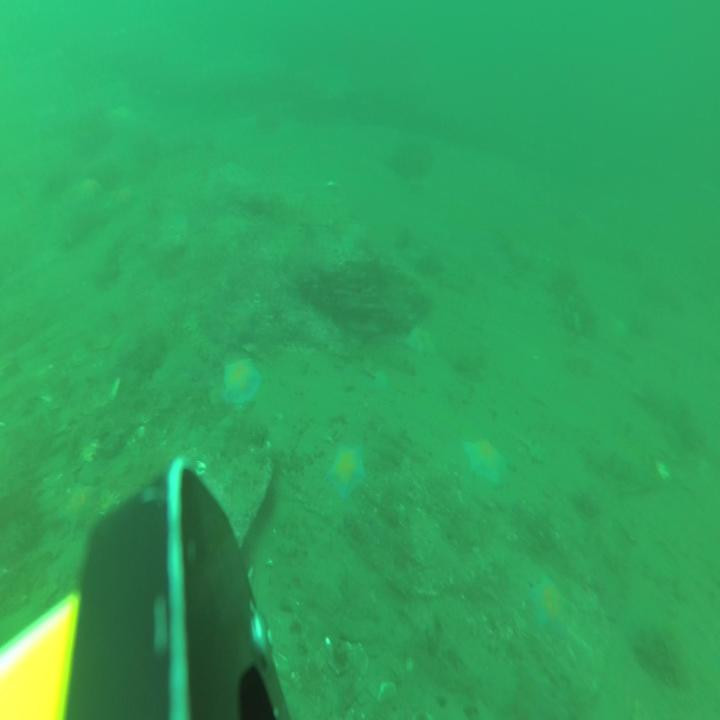holothurian: (101, 488, 120, 548)
starfish: (530, 571, 574, 636), (62, 477, 100, 539), (330, 444, 364, 500), (464, 439, 505, 484), (223, 358, 260, 407), (76, 177, 101, 209), (114, 183, 136, 216)
